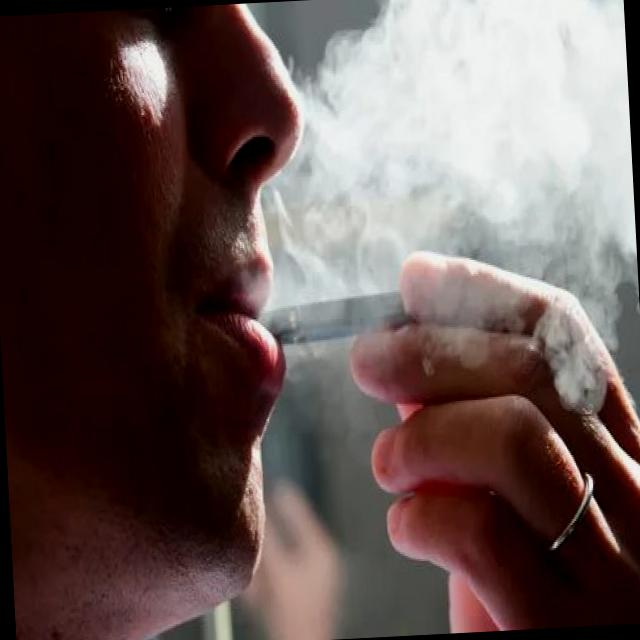smoke: (242, 289, 414, 350)
